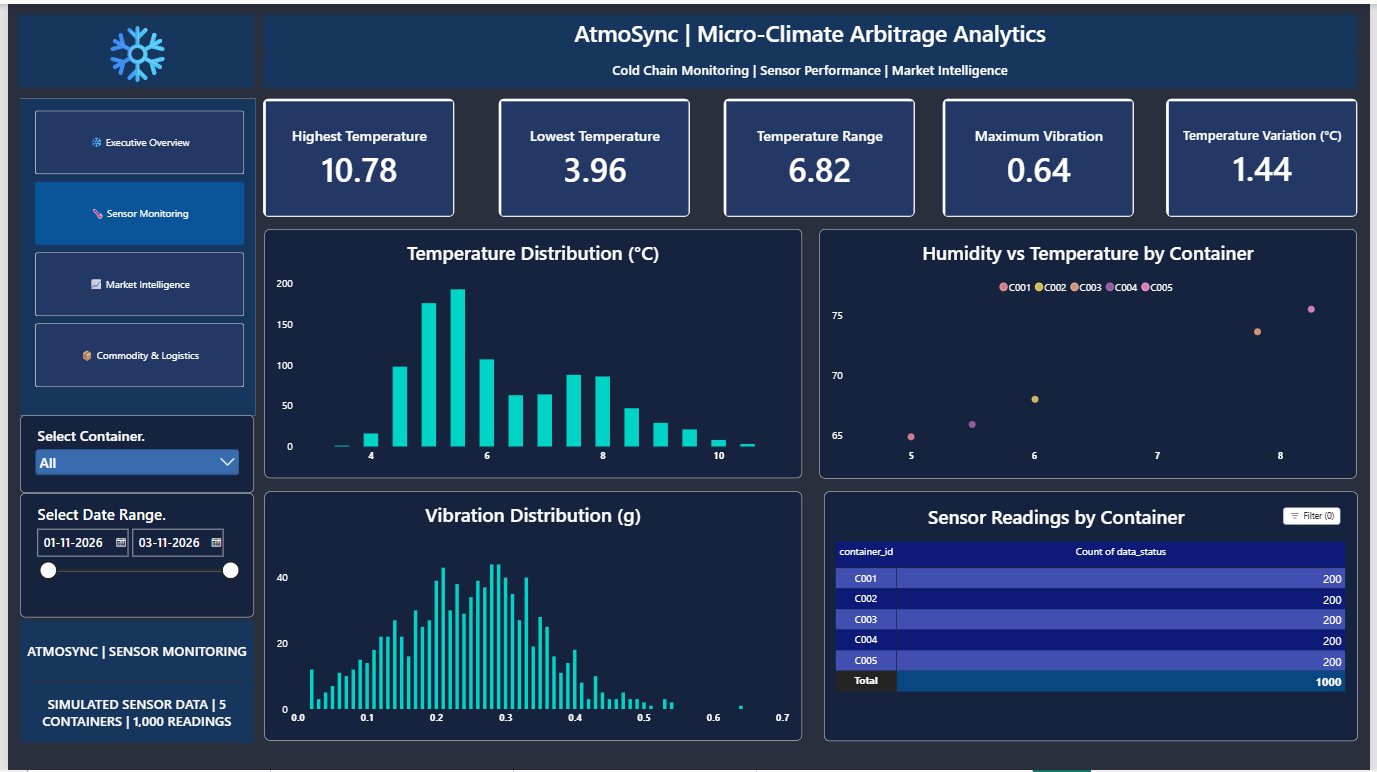

What the dashboard file says about the page in this screenshot:
{"tool":"powerbi","page":{"name":"🌡️\tSensor Monitoring","canvas":[1920,1080],"ordinal":1},"visuals":[{"type":"shape","box":[360,15,1542.5,50],"z":0},{"type":"shape","box":[360,65,1542.5,52.5],"z":1000},{"type":"shape","box":[15,15,332.5,102.5],"z":2000},{"type":"shape","box":[17.5,132.5,332.5,447.5],"z":3000},{"type":"pageNavigator","box":[37.5,150,295,390],"z":4000},{"type":"cardVisual","fields":{"Data":["Sensor_Data.Highest Temperature"]},"box":[360.5,132.6,270,167.4],"z":5000},{"type":"cardVisual","fields":{"Data":["Sensor_Data.Lowest Temperature"]},"box":[690.7,132.6,270,167],"z":6000},{"type":"cardVisual","fields":{"Data":["Sensor_Data.Temperature Range"]},"box":[1009.3,132.6,270,167],"z":7000},{"type":"cardVisual","fields":{"Data":["Sensor_Data.Maximum Vibration"]},"box":[1318.6,132.6,270,167],"z":8000},{"type":"cardVisual","fields":{"Data":["Sensor_Data.Temperature Consistency"]},"box":[1632.6,132.6,270,167],"z":9000},{"type":"clusteredColumnChart","title":"Temperature Distribution (°C)","fields":{"Category":["Sensor_Data.temperature_c (bins)"],"Y":["CountNonNull(Sensor_Data.temperature_c)"]},"box":[361.1,316.5,758,351],"z":10000},{"type":"scatterChart","title":"Humidity vs Temperature by Container","fields":{"Series":["Sensor_Data.container_id"],"X":["Sensor_Data.temperature_c"],"Y":["Avg(Sensor_Data.relative_humidity_pct)"]},"box":[1144.1,316.5,757.3,351.7],"z":11000},{"type":"clusteredColumnChart","title":"Vibration Distribution (g)","fields":{"Category":["Sensor_Data.vibration_g"],"Y":["CountNonNull(Sensor_Data.vibration_g)"]},"box":[361.1,686.9,758,351],"z":12000},{"type":"pivotTable","title":"Sensor Readings by Container","fields":{"Rows":["Sensor_Data.container_id"],"Values":["CountNonNull(Sensor_Data.data_status)"]},"box":[1151.1,686.9,752.6,351.7],"z":13000},{"type":"slicer","fields":{"Values":["Sensor_Data.container_id"]},"box":[17.5,580,330,110],"z":14000},{"type":"slicer","fields":{"Values":["Sensor_Data.timestamp_local"]},"box":[17.5,690,330,175],"z":15000},{"type":"shape","box":[17.5,870,330,85],"z":16000},{"type":"shape","box":[17.5,955,330,85],"z":17000}]}

Visuals, with their boxes in screenshot pixels (x1, y1, x2, y2), scaled from the page's 1920x1080 canvas onto the 1377x772 screenshot:
shape: detection(258, 11, 1364, 46)
shape: detection(258, 46, 1364, 84)
shape: detection(11, 11, 249, 84)
shape: detection(13, 95, 251, 415)
pageNavigator: detection(27, 107, 238, 386)
cardVisual - Sensor_Data.Highest Temperature: detection(259, 95, 452, 214)
cardVisual - Sensor_Data.Lowest Temperature: detection(495, 95, 689, 214)
cardVisual - Sensor_Data.Temperature Range: detection(724, 95, 917, 214)
cardVisual - Sensor_Data.Maximum Vibration: detection(946, 95, 1139, 214)
cardVisual - Sensor_Data.Temperature Consistency: detection(1171, 95, 1365, 214)
"Temperature Distribution (°C)" clusteredColumnChart: detection(259, 226, 803, 477)
"Humidity vs Temperature by Container" scatterChart: detection(821, 226, 1364, 478)
"Vibration Distribution (g)" clusteredColumnChart: detection(259, 491, 803, 742)
"Sensor Readings by Container" pivotTable: detection(826, 491, 1365, 742)
slicer - Sensor_Data.container_id: detection(13, 415, 249, 493)
slicer - Sensor_Data.timestamp_local: detection(13, 493, 249, 618)
shape: detection(13, 622, 249, 683)
shape: detection(13, 683, 249, 743)
